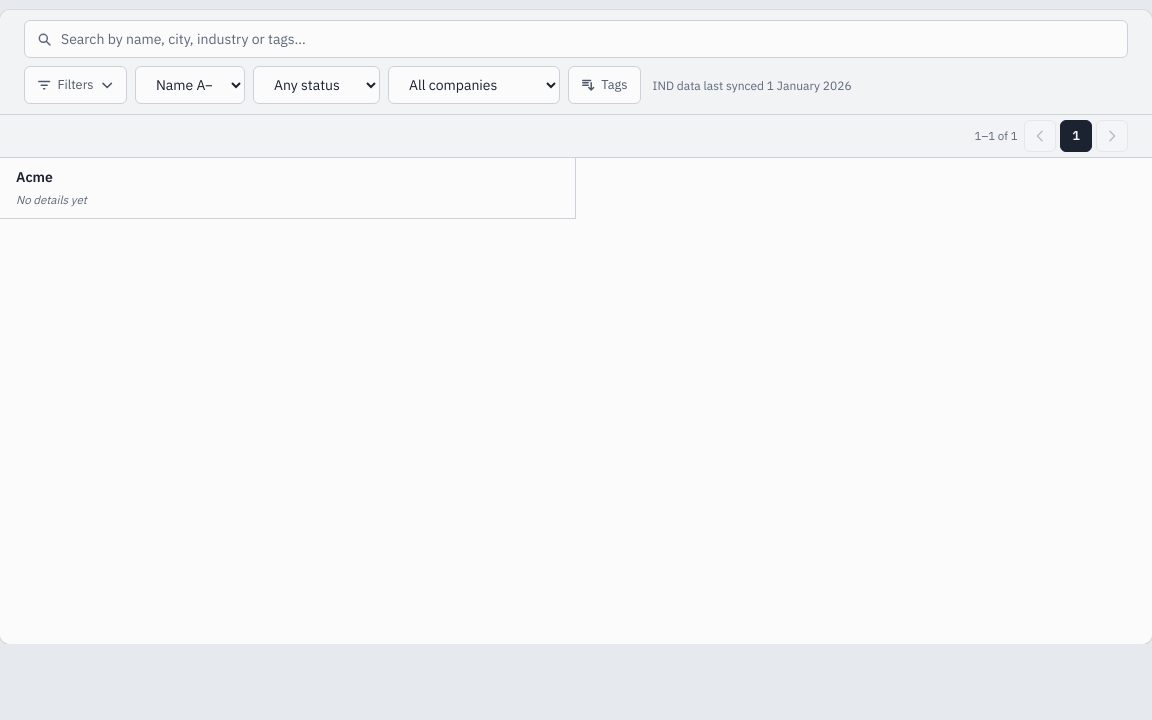
Test: CompaniesView – tile accessibility › the company name is a real button that opens the company
The image size is (1152, 720).
Click the button with class "tile-name" at (34, 177), box [16, 167, 53, 187]
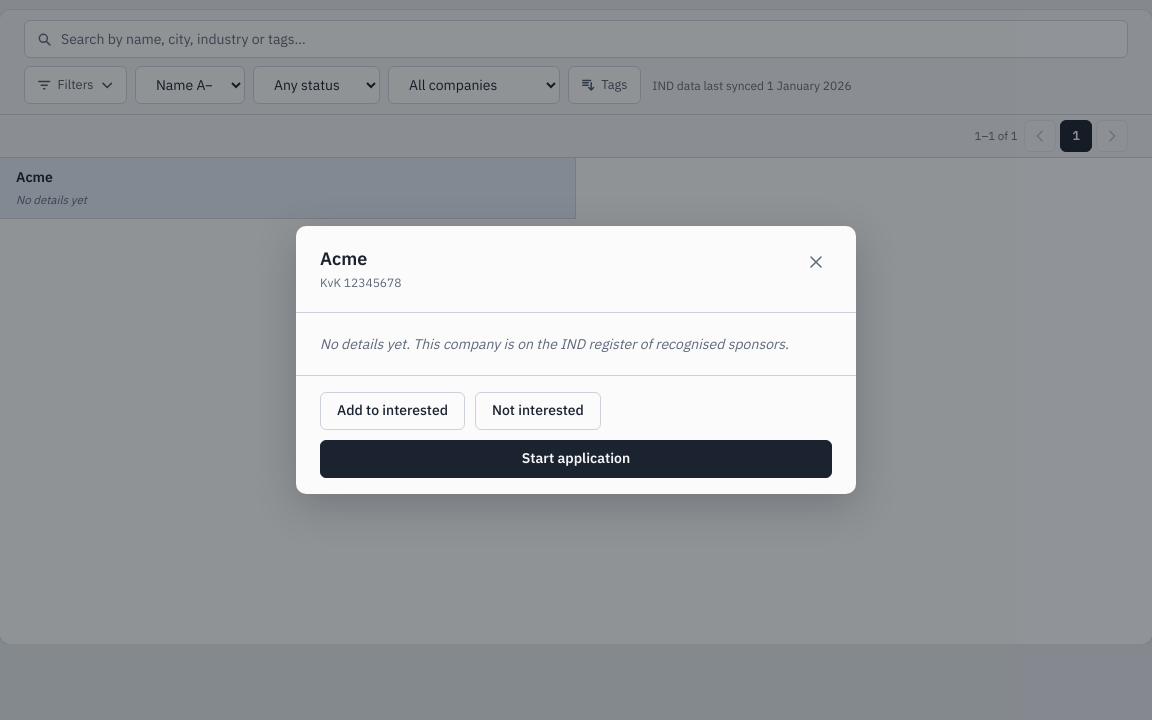
Expected: the element that starts with "Acme" is shown
